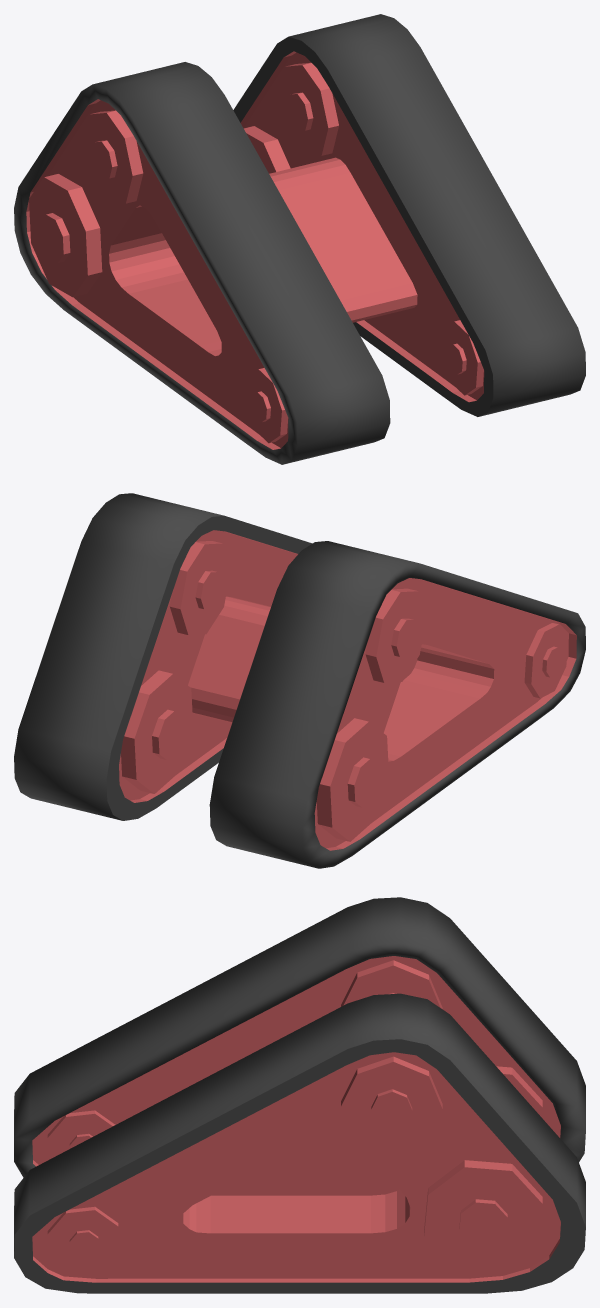
File: BandWheel.fbx
3 renders of one model, top to bottom at view 1: azimuth 30°, elevation 25°; view 2: azimuth 150°, elevation 25°; view 3: azimuth 270°, elevation 25°, orthographic.
Visible parts, largest first — view 1: BandWheel; view 2: BandWheel; view 3: BandWheel.
Part boxes in pixels (left/top/right/bottom): BandWheel: left=14, top=14, right=585, bottom=464; BandWheel: left=14, top=493, right=585, bottom=868; BandWheel: left=14, top=897, right=585, bottom=1293.
Bounding box in the file's own units: 138 × 106 × 216.
